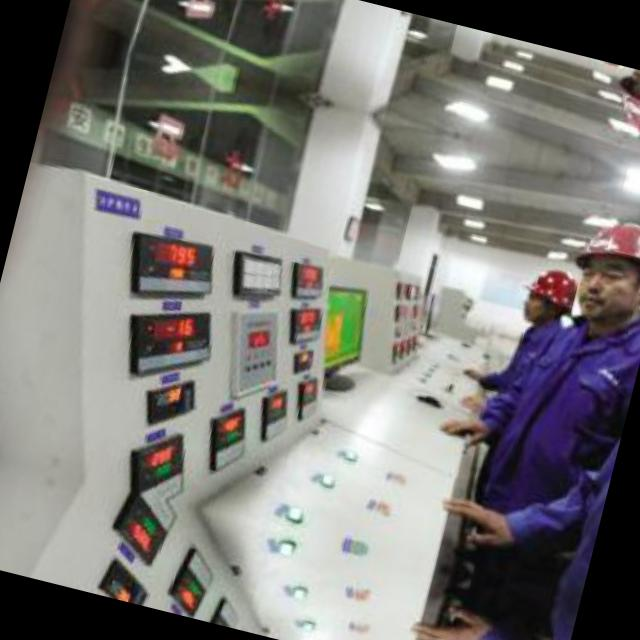helmet: (559, 204, 640, 339), (512, 256, 584, 336), (604, 65, 640, 158)
